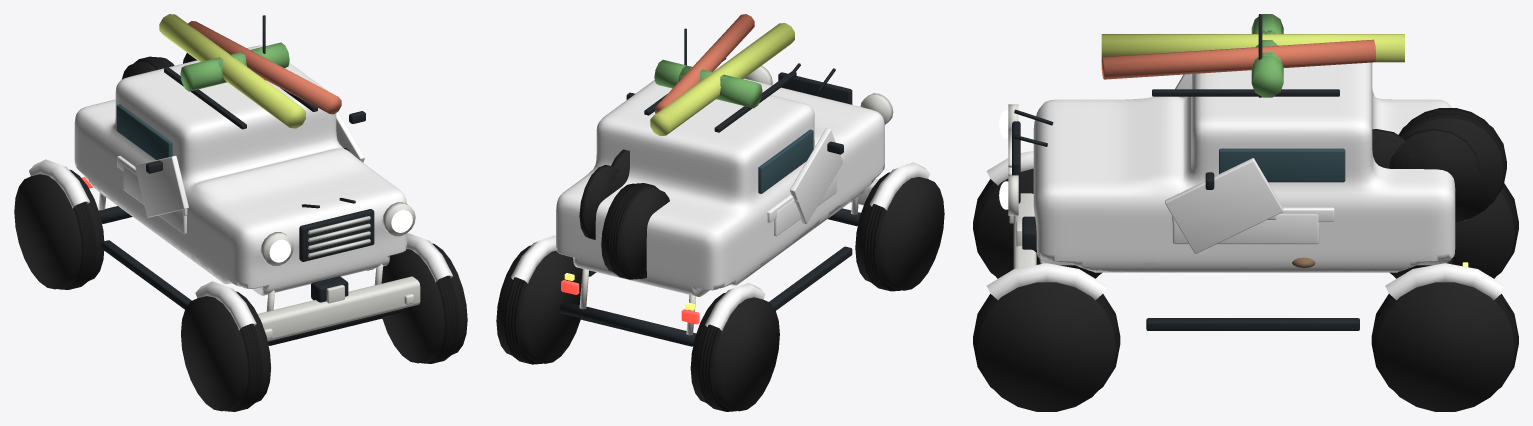
The model's file is bronco.glb.
The picture shows the model from 3 angles, left to right: view 1: azimuth 30°, elevation 25°; view 2: azimuth 150°, elevation 25°; view 3: azimuth 270°, elevation 25°; orthographic projection. The views are drawn at different scales.
Visible parts, largest first — view 1: Body, LOD_Body, Wheel0_tire, Wheel2_tire, Wheel1_tire, Det_bumper, Acc_kayak, Acc_kayakb, Accent_chevron.001, Det_grille, Glass_sideL, Det_slider (+16 smaller); view 2: Body, LOD_Body, Wheel2_tire, Wheel0_tire, Wheel3_tire, Acc_kayak, Acc_spare_tire, Accent_chevron.001, Acc_kayakb, Det_axler, Glass_sideL, Acc_bike (+15 smaller); view 3: Body, LOD_Body, Wheel1_tire, Wheel3_tire, Accent_chevron, Acc_kayakb, Acc_kayak, Glass_sideR, Acc_bike, Wheel2_tire, Acc_spare_tire, Wheel0_tire (+16 smaller).
Part boxes in pixels (<box>): Body: <box>74,45,407,295</box>; LOD_Body: <box>74,46,407,294</box>; Wheel0_tire: <box>181,291,270,411</box>; Wheel2_tire: <box>14,169,104,289</box>; Wheel1_tire: <box>381,243,467,363</box>; Det_bumper: <box>257,276,420,341</box>; Acc_kayak: <box>159,14,305,128</box>; Acc_kayakb: <box>187,21,341,114</box>; Accent_chevron.001: <box>135,155,188,217</box>; Det_grille: <box>299,209,374,261</box>; Glass_sideL: <box>116,104,172,159</box>; Det_slider: <box>101,240,191,309</box>; Body: <box>556,78,884,296</box>; LOD_Body: <box>556,79,884,296</box>; Wheel2_tire: <box>690,293,779,411</box>; Wheel0_tire: <box>855,172,944,290</box>; Wheel3_tire: <box>496,245,582,363</box>; Acc_kayak: <box>650,23,794,136</box>; Acc_spare_tire: <box>601,183,669,278</box>; Accent_chevron.001: <box>790,128,842,224</box>; Acc_kayakb: <box>655,14,754,113</box>; Det_axler: <box>559,301,696,345</box>; Glass_sideL: <box>758,129,813,193</box>; Acc_bike: <box>579,165,620,239</box>; Body: <box>1033,62,1455,272</box>; LOD_Body: <box>1033,62,1455,272</box>; Wheel1_tire: <box>977,282,1115,411</box>; Wheel3_tire: <box>1376,282,1514,411</box>; Accent_chevron: <box>1165,158,1283,253</box>; Acc_kayakb: <box>1101,39,1375,79</box>; Acc_kayak: <box>1101,34,1404,62</box>; Glass_sideR: <box>1219,148,1345,182</box>; Acc_bike: <box>1389,129,1479,210</box>; Wheel2_tire: <box>1391,192,1514,278</box>; Acc_spare_tire: <box>1404,108,1503,222</box>; Wheel0_tire: <box>977,168,1100,278</box>.
Size of the model in its own units: 2.19 by 2.68 by 3.78.
